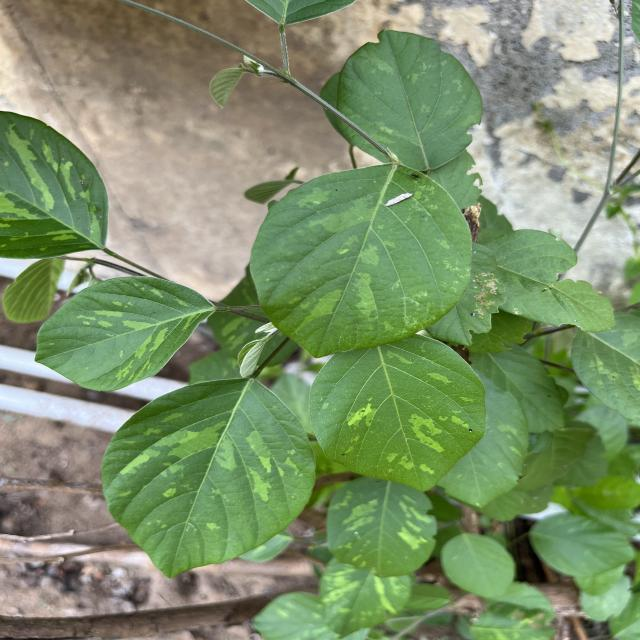Desmodium gangeticum: (247, 159, 478, 362), (98, 374, 320, 584), (304, 332, 492, 494), (30, 274, 214, 395)
